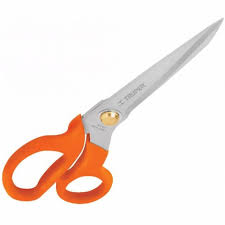tihiras: (3, 13, 225, 210)
